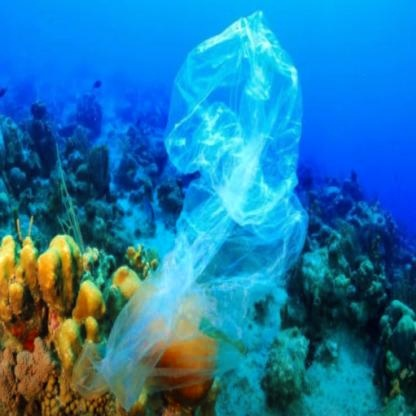plastic: (120, 39, 352, 416)
